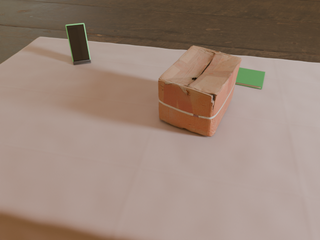book: (235, 67, 265, 89)
box: (158, 46, 242, 136)
phone: (66, 23, 90, 61)
